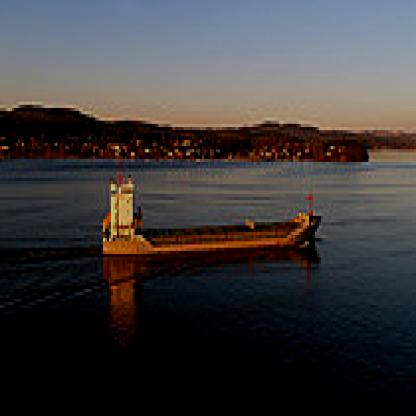Tanker: (93, 152, 327, 267)
